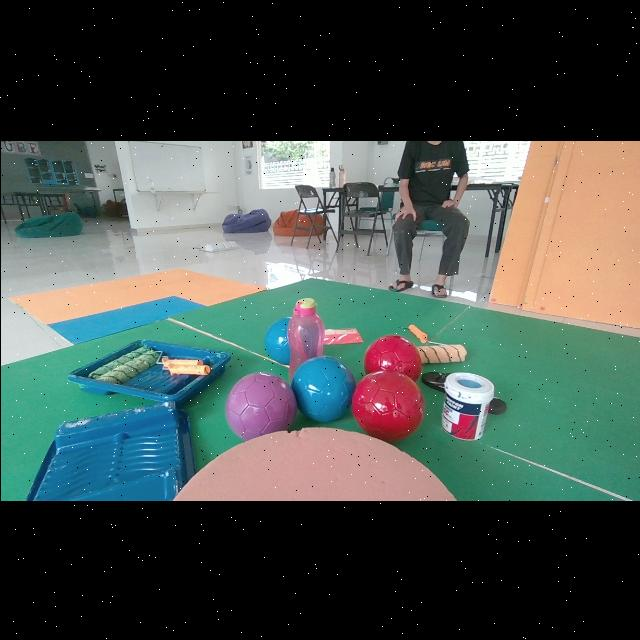B: (291, 355, 355, 421), (265, 316, 289, 363)
P: (224, 371, 296, 438)
R: (351, 370, 423, 440), (364, 334, 421, 380)
